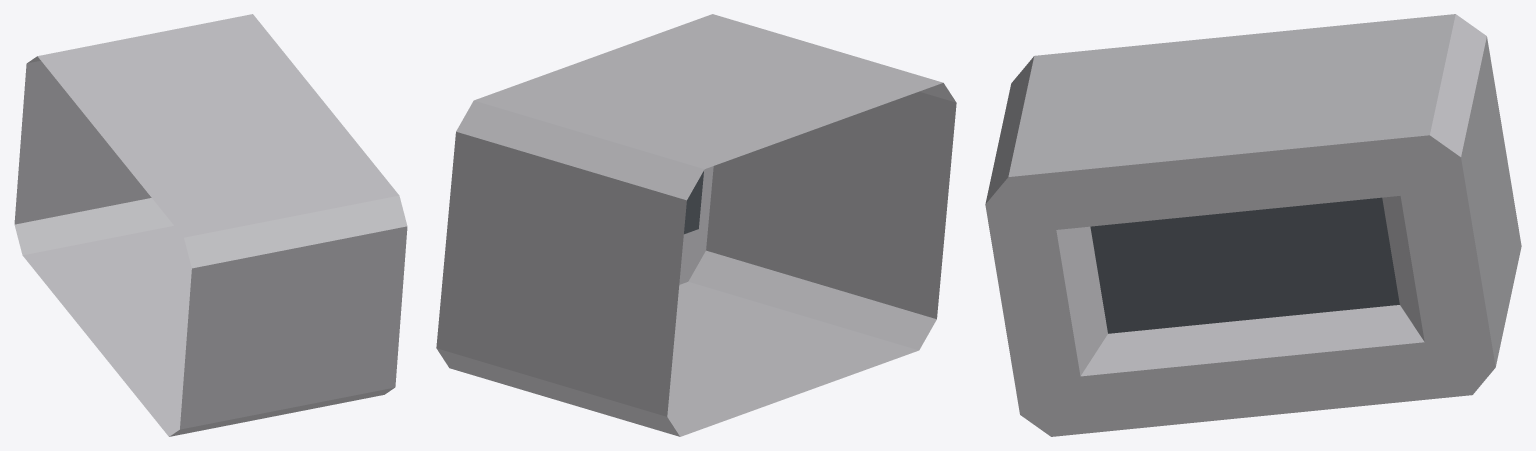
Rendered from Personal_Vehicle_01_Detail_3.fbx.
3 renders of one model, left to right at view 1: azimuth 30°, elevation 25°; view 2: azimuth 150°, elevation 25°; view 3: azimuth 270°, elevation 25°, orthographic. The views are drawn at different scales.
Visible parts, largest first — view 1: Personal_Vehicle_01_Detail_3; view 2: Personal_Vehicle_01_Detail_3; view 3: Personal_Vehicle_01_Detail_3.
Boxes of the visible parts, x1,y1,x2,y2 form: Personal_Vehicle_01_Detail_3: [14, 14, 407, 436]; Personal_Vehicle_01_Detail_3: [436, 14, 956, 436]; Personal_Vehicle_01_Detail_3: [985, 14, 1521, 436].
Size of the model in its own units: 17.9 by 18.75 by 28.82.
Materials: 1 (1 with a texture image).
